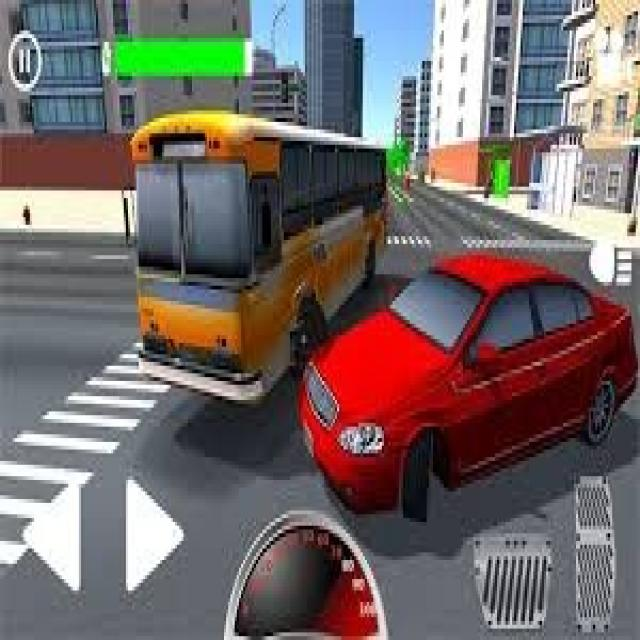bus: (129, 107, 390, 415)
